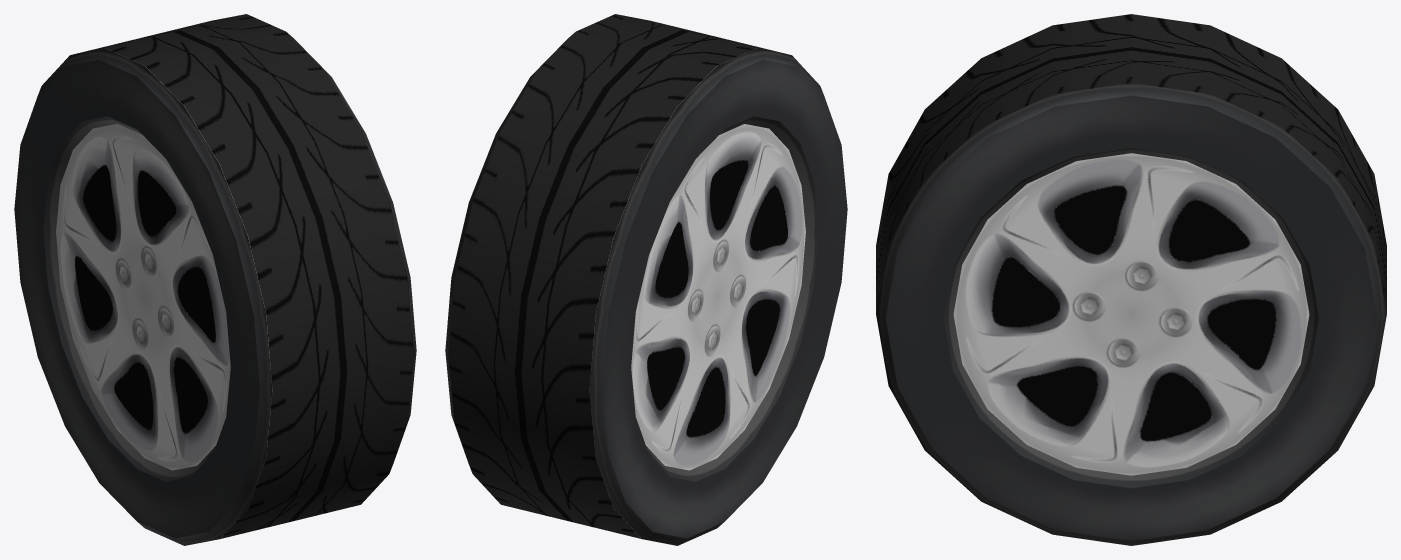
File: NPC_Weel2.fbx
The picture shows the model from 3 angles, left to right: view 1: azimuth 30°, elevation 25°; view 2: azimuth 150°, elevation 25°; view 3: azimuth 270°, elevation 25°; orthographic projection.
Parts seen in each view (by area): view 1: Weels.001; view 2: Weels.001; view 3: Weels.001.
Part boxes in pixels (box(x1,y1,x2,y2)): Weels.001: box(14, 14, 416, 545); Weels.001: box(445, 14, 847, 545); Weels.001: box(876, 14, 1386, 545).
Size of the model in its own units: 21.68 by 61.1 by 61.1.
